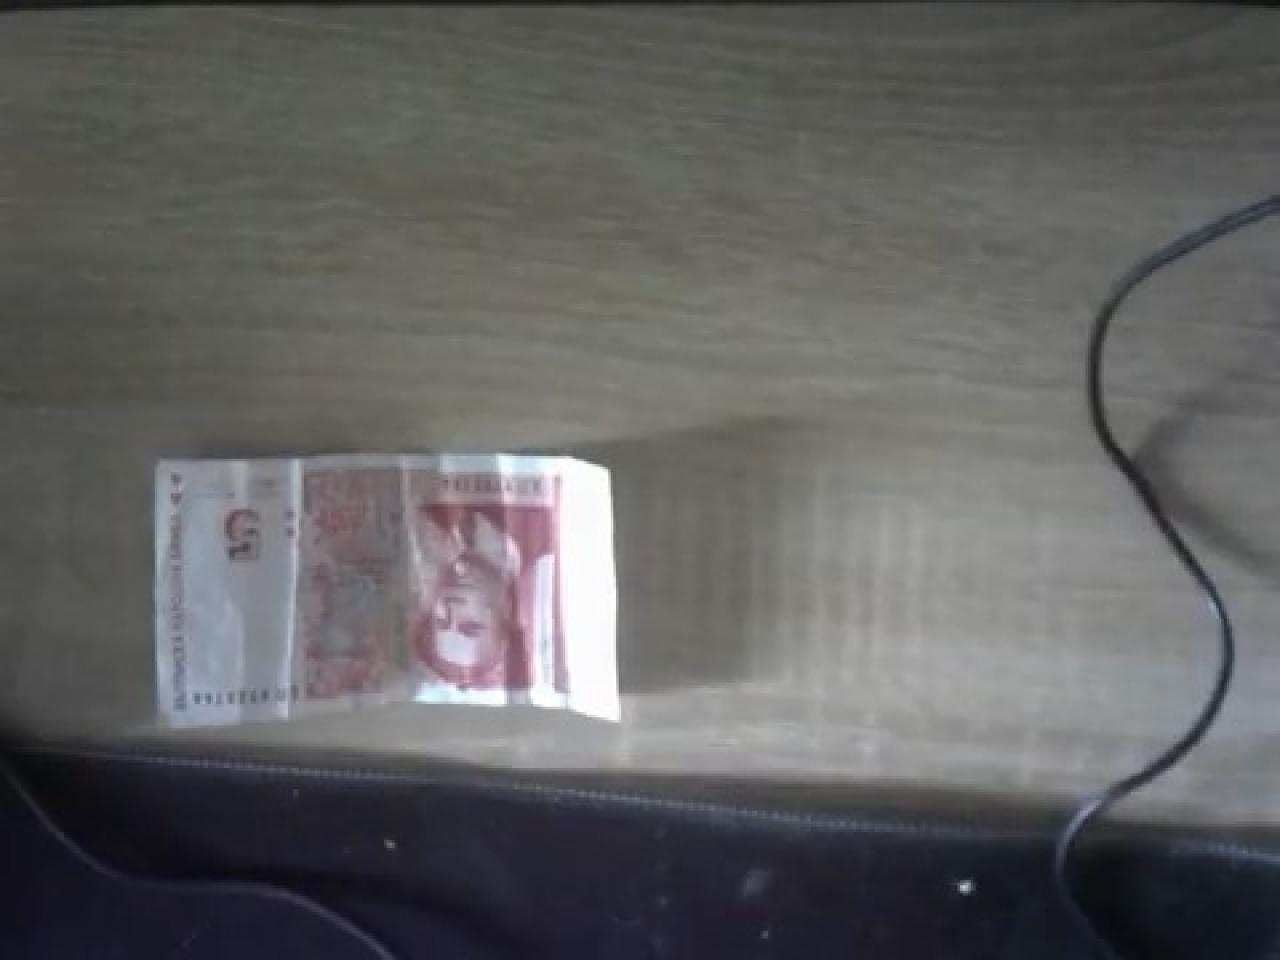5leva: (147, 440, 635, 733)
